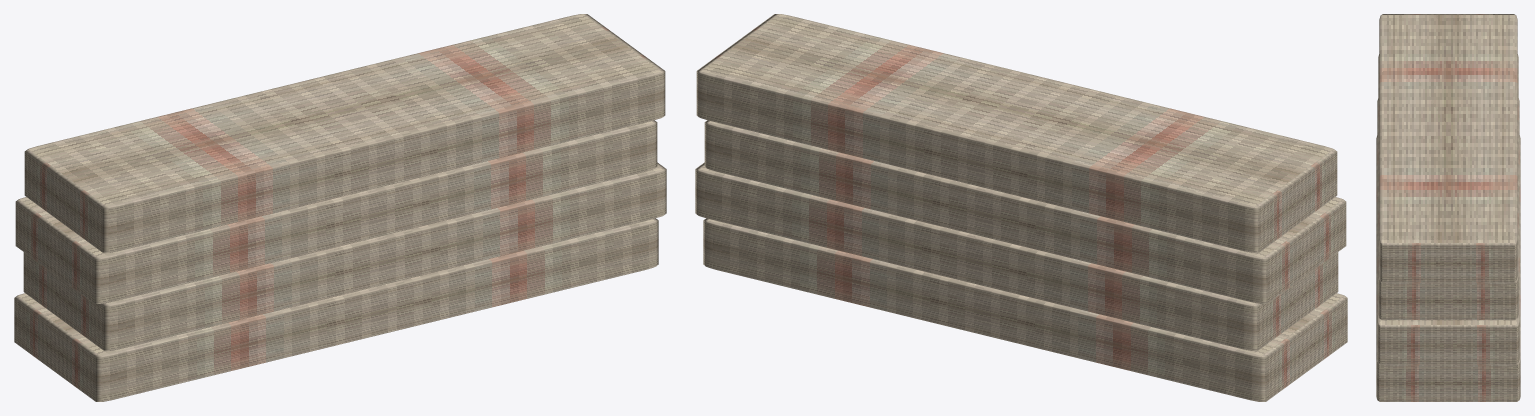
Rendered from packed-hose.glb.
3 views of the same model, side by side, from view 1: azimuth 30°, elevation 25°; view 2: azimuth 150°, elevation 25°; view 3: azimuth 270°, elevation 25° (orthographic). The views are drawn at different scales.
Visible parts, largest first — view 1: fold (×4); view 2: fold (×4); view 3: fold (×4).
Part boxes in pixels (x1,y1,x2,y2): fold (×4): (14,14,666,401); fold (×4): (695,14,1347,401); fold (×4): (1376,14,1520,401).
Bounding box in the file's own units: 0.7388 × 0.2376 × 0.192.
Materials: 1 (1 with a texture image).
